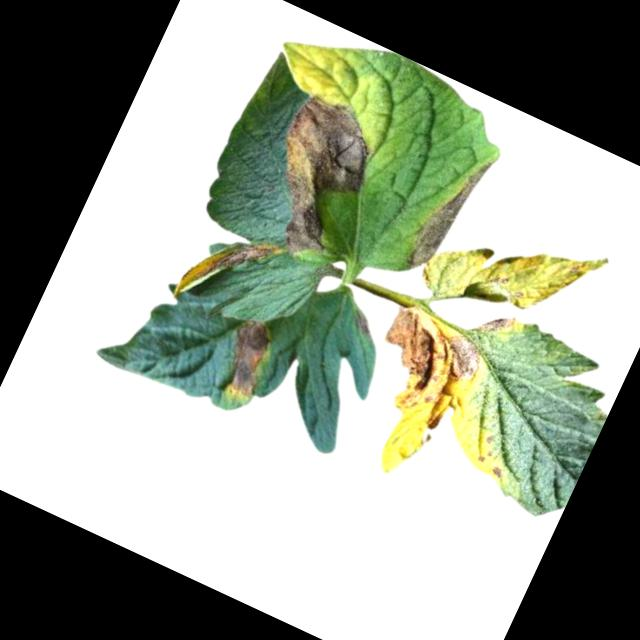Early_blight: (241, 87, 392, 271), (354, 302, 492, 443), (168, 215, 282, 329), (404, 149, 496, 282), (210, 316, 284, 409), (475, 302, 521, 345), (350, 311, 381, 341), (487, 460, 510, 484)
